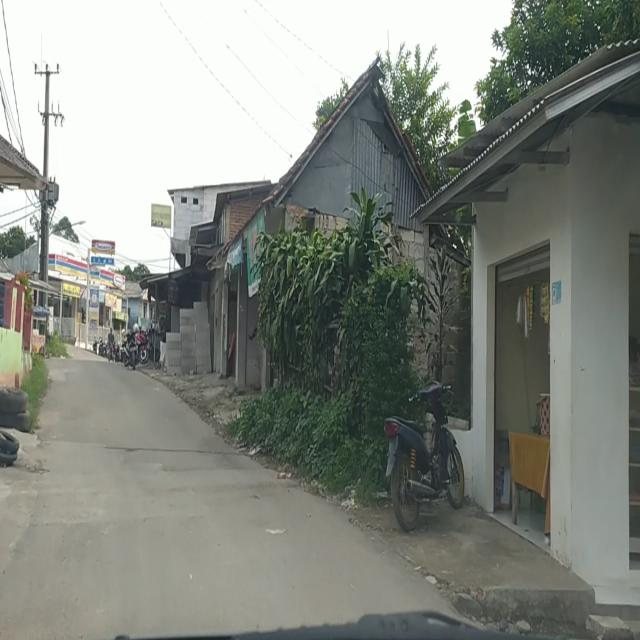Sewer Cover: (100, 444, 224, 456)
